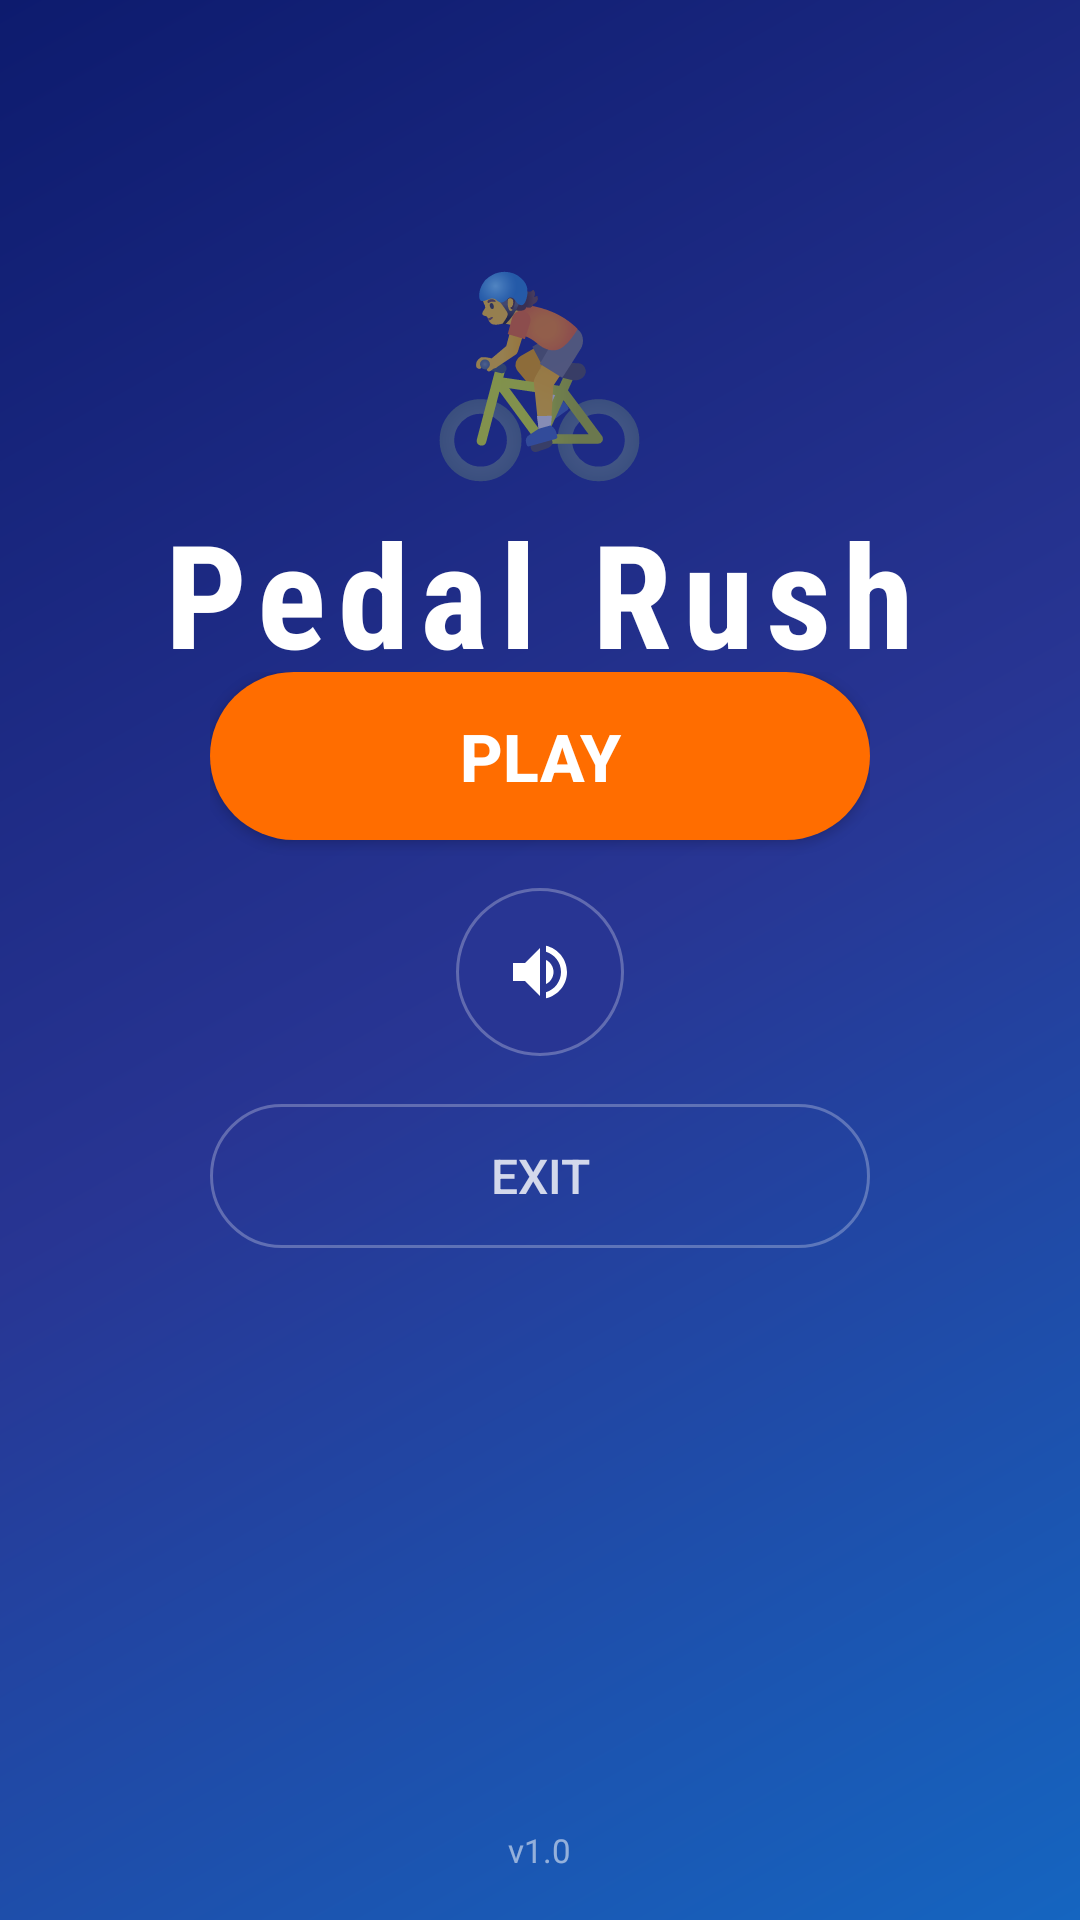

Icon click points for this 1080*1920 phone screenshot, format point (x, y):
Toggle Sound: point (540, 972)
